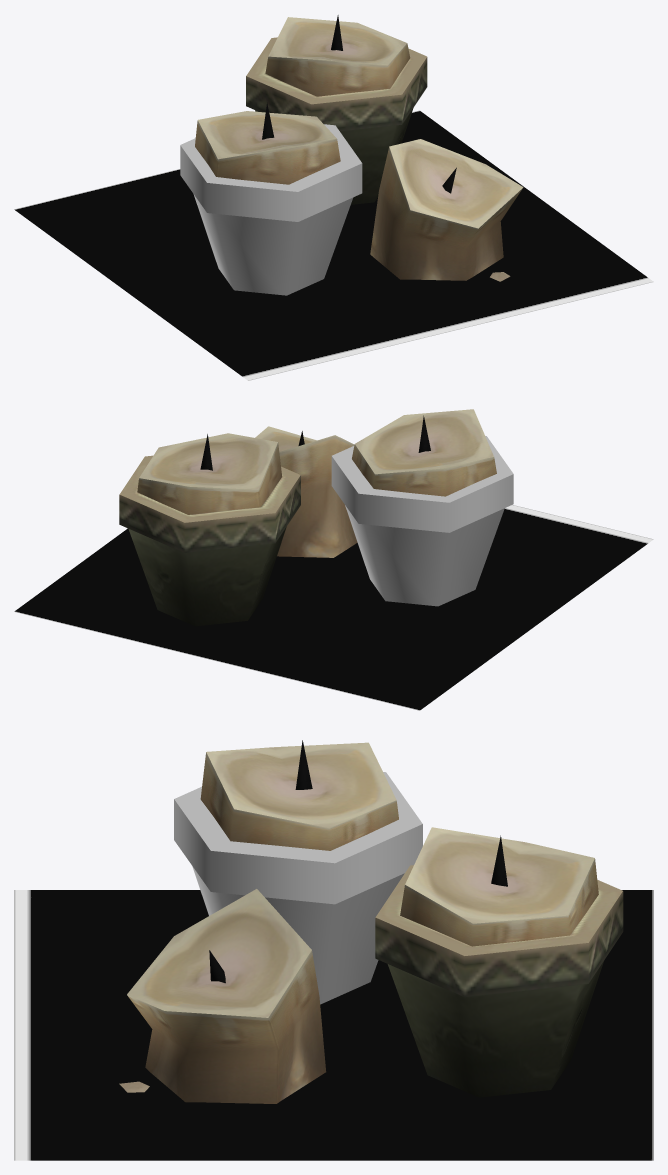
File: candle_arrangement_02.fbx
3 views of the same model, one above another, from view 1: azimuth 30°, elevation 25°; view 2: azimuth 150°, elevation 25°; view 3: azimuth 270°, elevation 25° (orthographic). The views are drawn at different scales.
Visible parts, largest first — view 1: shadow, candles, pot_01, pot_02; view 2: shadow, candles, pot_02, pot_01; view 3: shadow, candles, pot_02, pot_01.
Boxes of the visible parts, x1,y1,x2,y2 form: shadow: [14, 110, 653, 380]; candles: [195, 15, 523, 281]; pot_01: [180, 124, 362, 295]; pot_02: [246, 37, 427, 204]; shadow: [14, 505, 653, 710]; candles: [137, 409, 496, 557]; pot_02: [119, 455, 300, 626]; pot_01: [331, 436, 513, 606]; shadow: [14, 890, 653, 1160]; candles: [119, 740, 598, 1103]; pot_02: [375, 865, 623, 1097]; pot_01: [174, 772, 422, 1004].
Size of the model in its own units: 25 by 10.47 by 25.
